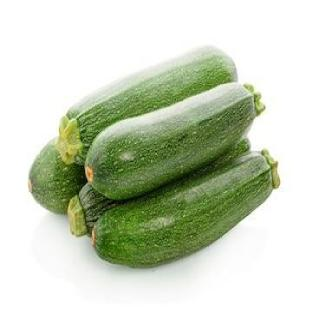Zucchini: (92, 150, 279, 267), (85, 83, 264, 200), (57, 47, 236, 164), (29, 140, 86, 213), (68, 184, 121, 236)
